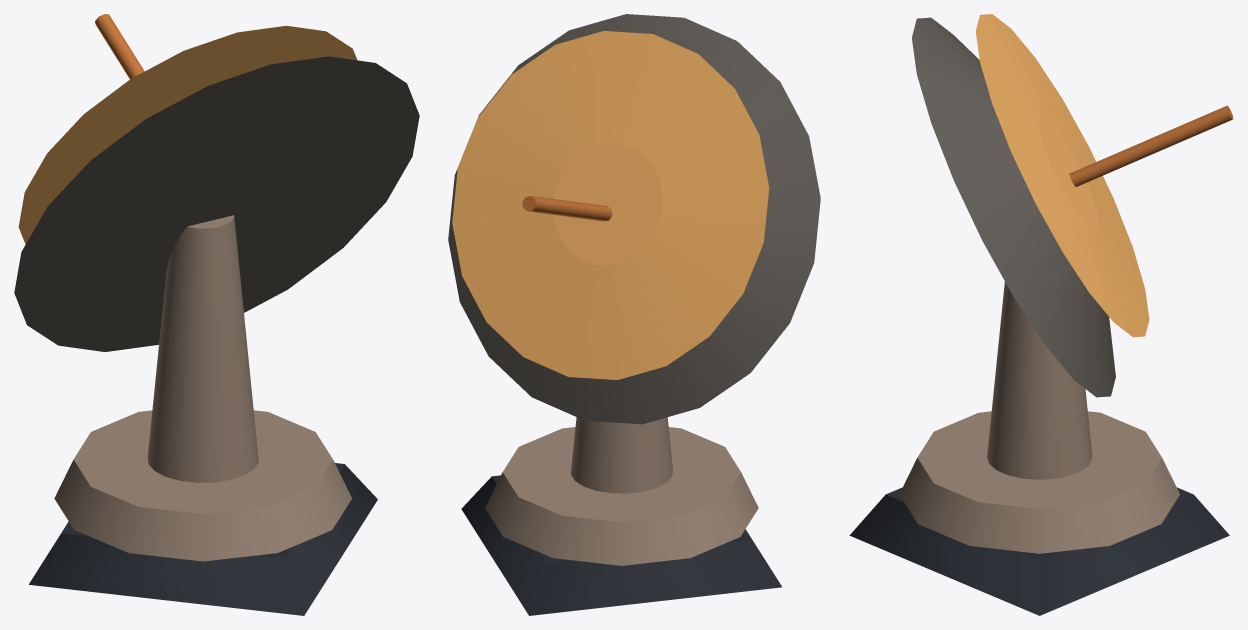
Rendered from compact_high_gravity--sensor_array.glb.
3 renders of one model, left to right at view 1: azimuth 30°, elevation 25°; view 2: azimuth 150°, elevation 25°; view 3: azimuth 270°, elevation 25°, orthographic. The views are drawn at different scales.
Visible parts, largest first — view 1: sensor_dish_4, rotation_bearing_2, sensor_mast_3, mount_adapter_1, array_face_5, receiver_6; view 2: array_face_5, sensor_dish_4, rotation_bearing_2, mount_adapter_1, sensor_mast_3, receiver_6; view 3: rotation_bearing_2, sensor_dish_4, array_face_5, mount_adapter_1, sensor_mast_3, receiver_6.
Boxes of the visible parts, left/top/right/bottom form: sensor_dish_4: left=14, top=56, right=419, bottom=351; rotation_bearing_2: left=54, top=410, right=351, bottom=561; sensor_mast_3: left=147, top=215, right=258, bottom=482; mount_adapter_1: left=29, top=463, right=377, bottom=615; array_face_5: left=18, top=25, right=357, bottom=244; receiver_6: left=95, top=14, right=144, bottom=79; array_face_5: left=452, top=31, right=769, bottom=379; sensor_dish_4: left=448, top=14, right=820, bottom=424; rotation_bearing_2: left=485, top=427, right=758, bottom=565; mount_adapter_1: left=461, top=475, right=781, bottom=615; sensor_mast_3: left=571, top=417, right=672, bottom=493; receiver_6: left=522, top=196, right=612, bottom=221; rotation_bearing_2: left=899, top=411, right=1179, bottom=553; sensor_dish_4: left=912, top=17, right=1115, bottom=397; array_face_5: left=975, top=14, right=1149, bottom=337; mount_adapter_1: left=849, top=487, right=1229, bottom=615; sensor_mast_3: left=987, top=282, right=1092, bottom=479; receiver_6: left=1069, top=105, right=1233, bottom=186.
Bounding box in the file's own units: 11.28 × 14.73 × 10.17.
